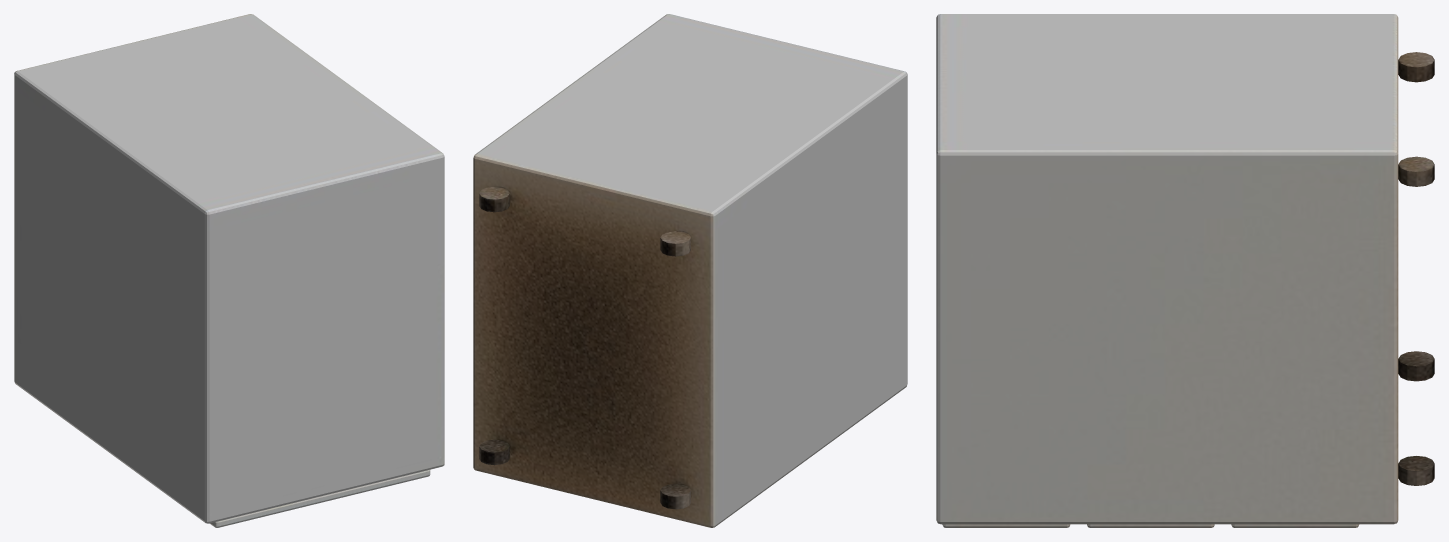
The picture shows the model from 3 angles, left to right: view 1: azimuth 30°, elevation 25°; view 2: azimuth 150°, elevation 25°; view 3: azimuth 270°, elevation 25°; orthographic projection. The views are drawn at different scales.
Parts seen in each view (by area): view 1: E3_final_2.001; view 2: E3_final_2.001; view 3: E3_final_2.001.
Boxes of the visible parts, x1,y1,x2,y2 form: E3_final_2.001: (14, 14, 444, 527); E3_final_2.001: (473, 14, 907, 527); E3_final_2.001: (936, 14, 1434, 527).
Bounding box in the file's own units: 0.4 × 0.516 × 0.604.
1 material, 1 textured.
